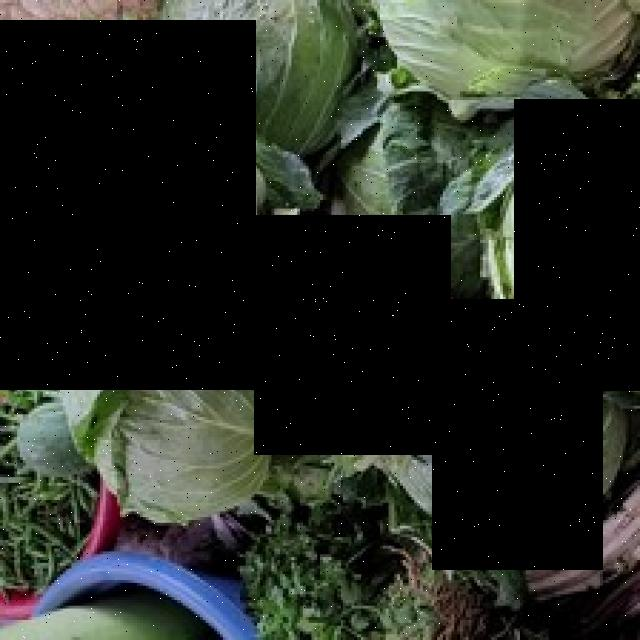Cabbage: (0, 20, 256, 390), (255, 215, 452, 455), (432, 299, 604, 570), (514, 99, 640, 391)
